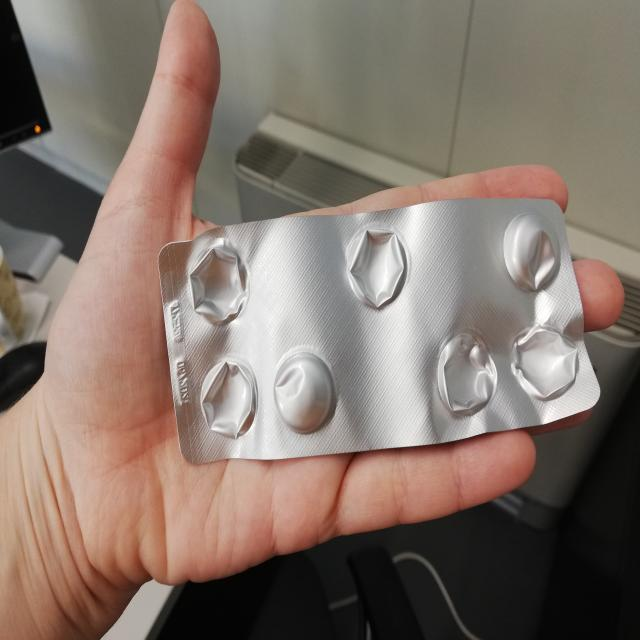Empty: (438, 320, 504, 424), (182, 235, 251, 334), (506, 322, 584, 408), (343, 215, 410, 313), (193, 348, 258, 446)
Pill: (268, 348, 340, 437), (498, 210, 560, 296)
